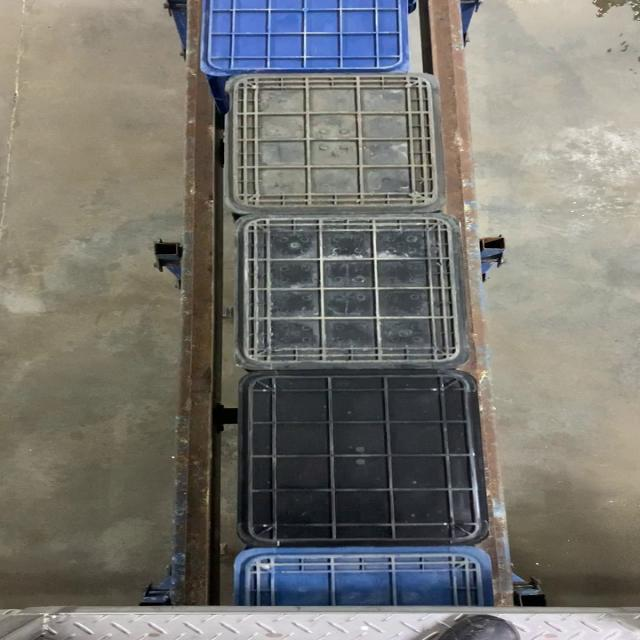Box: (232, 366, 493, 546), (232, 212, 469, 368), (223, 74, 448, 212)
